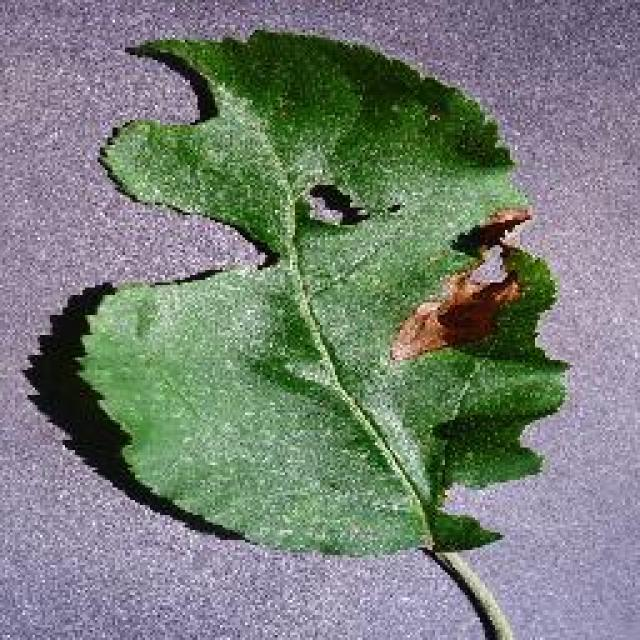Black_rot: (72, 25, 570, 560)
